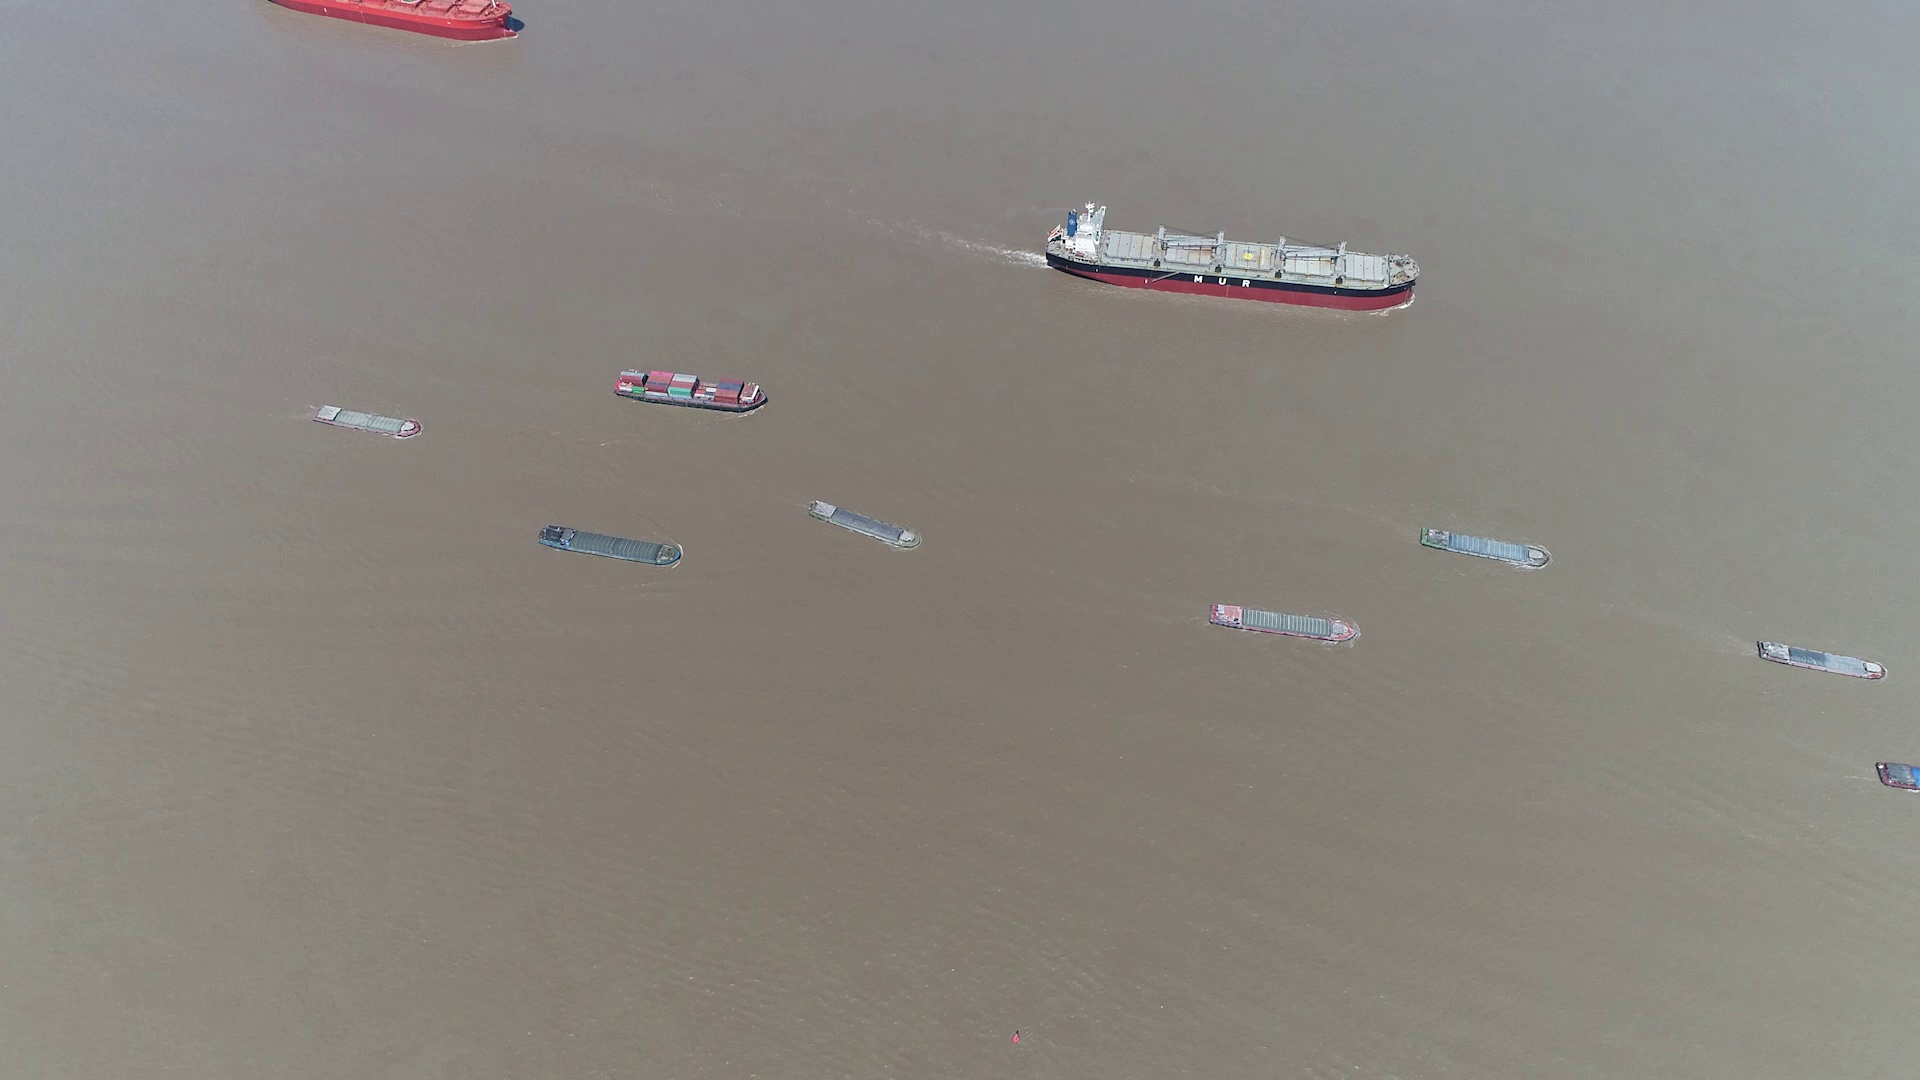ship: (1047, 204, 1420, 309), (264, 0, 522, 44), (541, 524, 683, 568), (613, 371, 766, 411), (1209, 603, 1360, 644), (1418, 525, 1549, 570), (1756, 638, 1886, 680), (810, 500, 920, 549), (311, 404, 419, 439), (1875, 761, 1919, 793)
